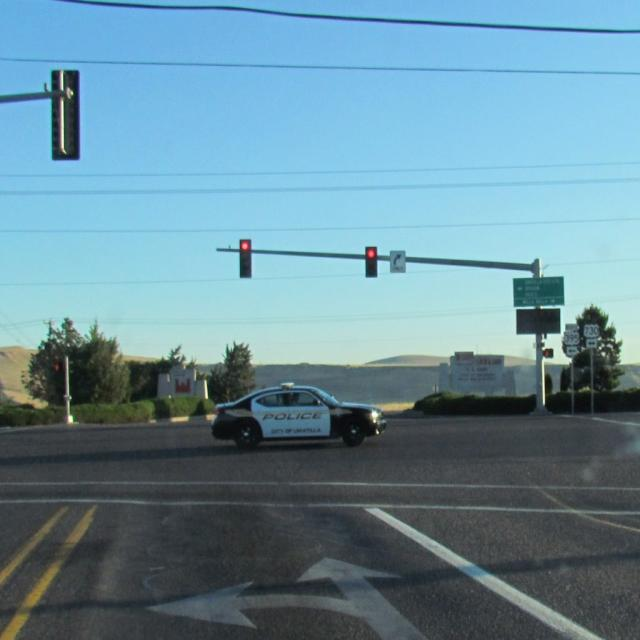traffic light: (239, 240, 252, 280), (366, 245, 378, 277)
